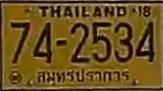2: (70, 22, 88, 62)
3: (114, 22, 133, 62)
4: (135, 20, 155, 62), (32, 21, 52, 62)
5: (91, 22, 110, 63)
7: (10, 21, 29, 63)
SPK: (33, 67, 133, 83)
